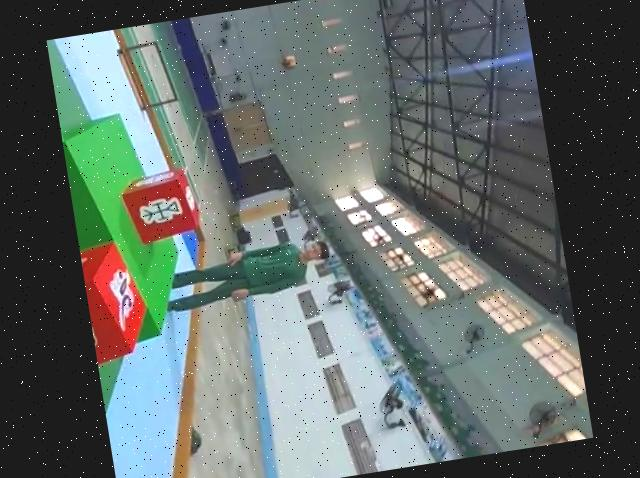R1: (79, 233, 158, 366)
R2 Real: (118, 163, 208, 249)
